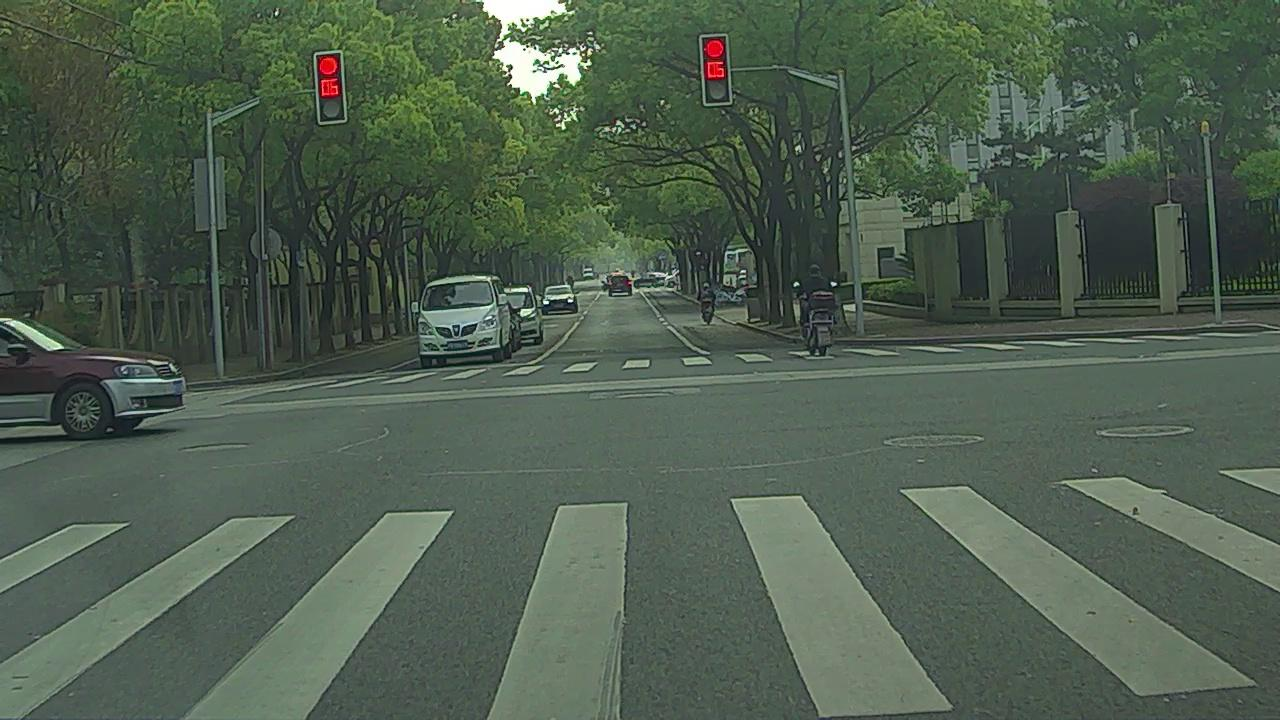traffic_light: (315, 50, 347, 123), (702, 36, 729, 105)
